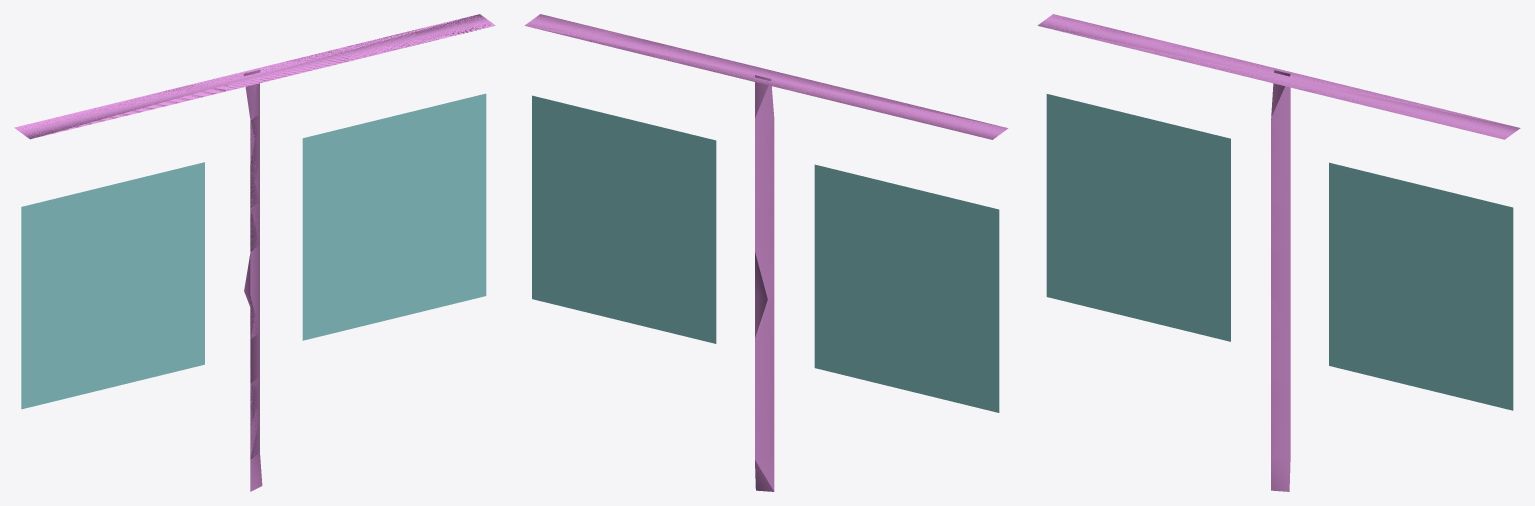
Rendered from sub_Handrail_LOD2.fbx.
3 views of the same model, side by side, from view 1: azimuth 30°, elevation 25°; view 2: azimuth 150°, elevation 25°; view 3: azimuth 330°, elevation 25° (orthographic).
Visible parts, largest first — view 1: sub_Handrail_LOD2; view 2: sub_Handrail_LOD2; view 3: sub_Handrail_LOD2.
Part boxes in pixels (x1,y1,x2,y2): sub_Handrail_LOD2: (14, 14, 495, 491); sub_Handrail_LOD2: (524, 14, 1008, 491); sub_Handrail_LOD2: (1037, 14, 1520, 491).
Size of the model in its own units: 2.01 by 1.71 by 0.1193.
